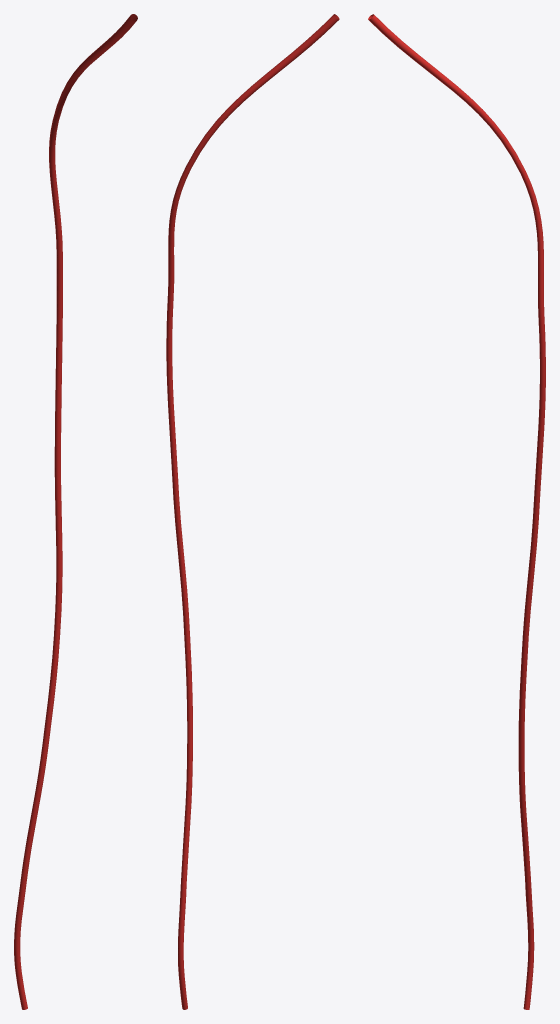
The model's file is circulatorio-descending-branch-of-lateral-circumflex-femoral-artery-l.glb.
3 views of the same model, side by side, from view 1: azimuth 90°, elevation 25°; view 2: azimuth 150°, elevation 25°; view 3: azimuth 330°, elevation 25° (orthographic). The views are drawn at different scales.
Parts seen in each view (by area): view 1: Descending branch of lateral circumflex femoral artery.l; view 2: Descending branch of lateral circumflex femoral artery.l; view 3: Descending branch of lateral circumflex femoral artery.l.
Part boxes in pixels (bbox=[...]): Descending branch of lateral circumflex femoral artery.l: bbox=[14, 14, 137, 1009]; Descending branch of lateral circumflex femoral artery.l: bbox=[166, 14, 339, 1009]; Descending branch of lateral circumflex femoral artery.l: bbox=[368, 14, 545, 1009].
Bounding box in the file's own units: 0.0487 × 0.3315 × 0.0356.
